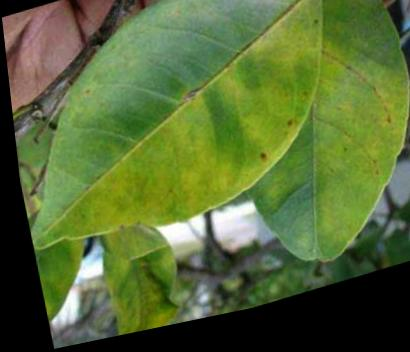Citrus Greening: (1, 0, 358, 268)
